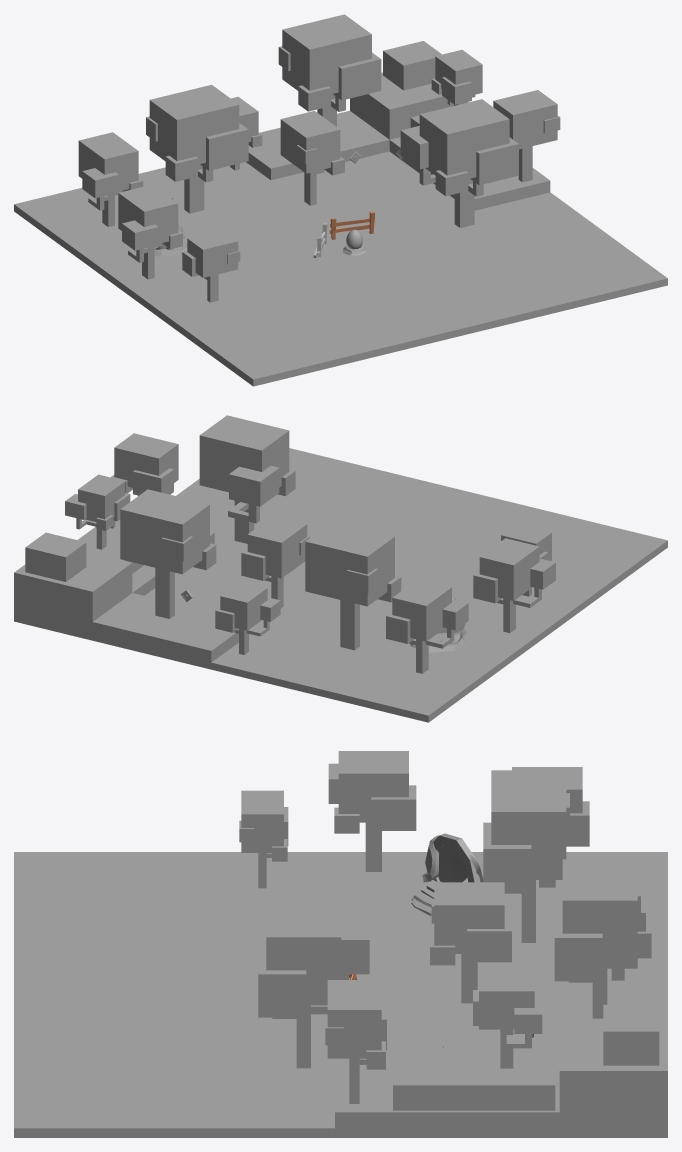
The model's file is Map.fbx.
3 renders of one model, top to bottom at view 1: azimuth 30°, elevation 25°; view 2: azimuth 150°, elevation 25°; view 3: azimuth 270°, elevation 25°, orthographic. The views are drawn at different scales.
Parts seen in each view (by area): view 1: pCube9, tree_7, tree_5, tree_1, tree_0, tree_8, tree_6, tree_10, tree_9, tree_4, tree_11; view 2: pCube9, tree_7, tree_1, tree_5, tree_0, tree_8, tree_6, tree_10, tree_11, tree_4, tree_9, portal_0; view 3: pCube9, tree_7, tree_1, tree_5, tree_0, tree_6, tree_10, tree_4, tree_9, portal_0, tree_8, tree_11.
Part boxes in pixels (x1,y1,x2,y2): pCube9: (14, 41, 667, 386); tree_7: (400, 99, 518, 227); tree_5: (146, 84, 248, 213); tree_1: (278, 14, 381, 126); tree_0: (118, 184, 182, 279); tree_8: (78, 132, 143, 227); tree_6: (280, 111, 344, 205); tree_10: (493, 90, 560, 182); tree_9: (182, 230, 240, 302); tree_4: (431, 49, 482, 105); tree_11: (230, 96, 262, 170); pCube9: (14, 448, 667, 722); tree_7: (199, 415, 295, 543); tree_1: (120, 489, 216, 618); tree_5: (305, 521, 401, 650); tree_0: (473, 538, 555, 633); tree_8: (386, 579, 468, 673); tree_6: (241, 515, 309, 608); tree_10: (110, 433, 178, 495); tree_11: (215, 581, 280, 654); tree_4: (65, 474, 130, 549); tree_9: (501, 524, 551, 596); portal_0: (410, 598, 466, 652); pCube9: (14, 852, 667, 1137); tree_7: (258, 895, 369, 1068); tree_1: (554, 859, 640, 1018); tree_5: (483, 770, 569, 942); tree_0: (328, 751, 416, 871); tree_6: (430, 882, 511, 1003); tree_10: (325, 980, 386, 1103); tree_4: (473, 973, 542, 1068); tree_9: (239, 790, 288, 888); portal_0: (411, 833, 483, 915); tree_8: (512, 767, 589, 887); tree_11: (611, 895, 651, 980).
Size of the model in its own units: 203 by 58.08 by 198.
